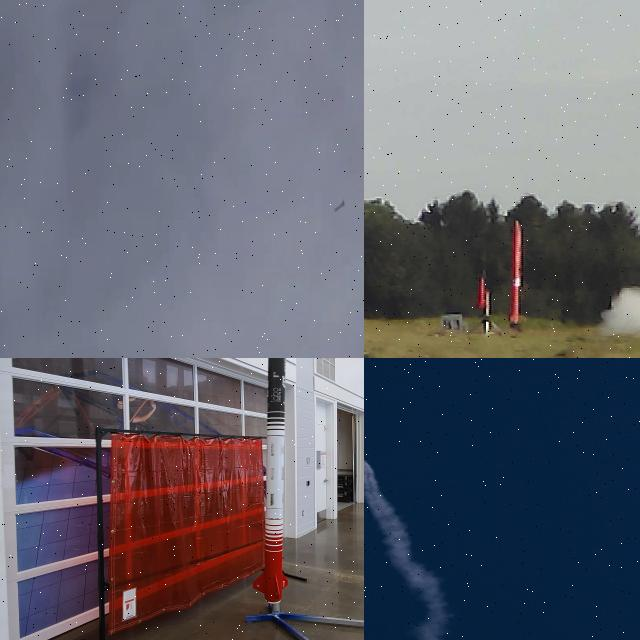Rocket: (252, 358, 288, 602), (508, 220, 523, 326), (476, 270, 488, 308), (334, 200, 344, 212), (364, 459, 368, 462)
